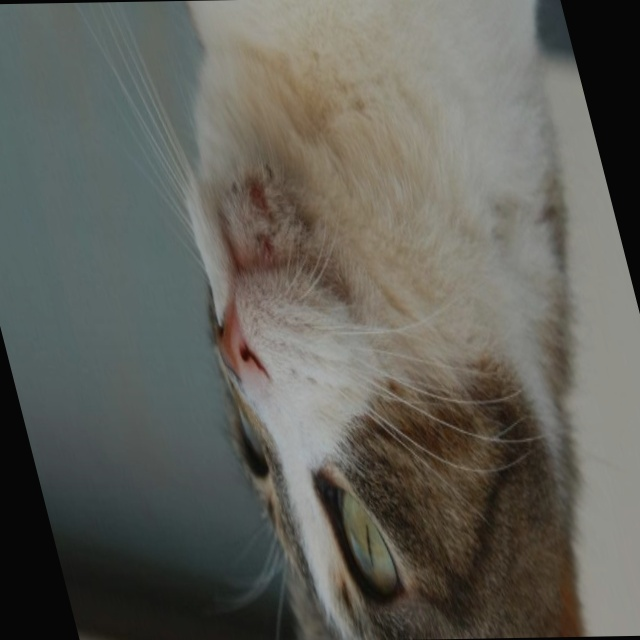acne: (213, 157, 318, 262)
